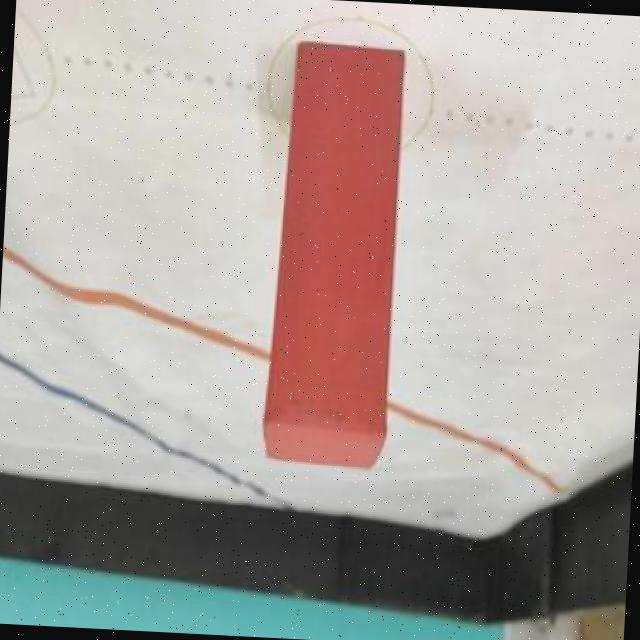redbox: (260, 43, 407, 471)
